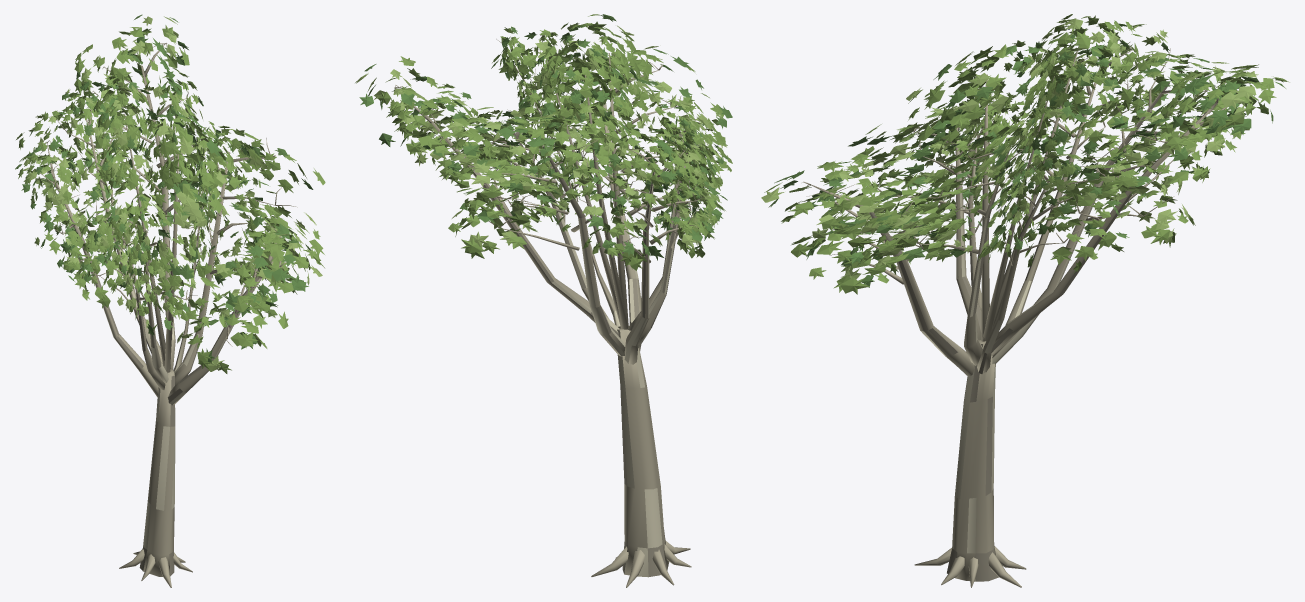
3 views of the same model, side by side, from view 1: azimuth 30°, elevation 25°; view 2: azimuth 150°, elevation 25°; view 3: azimuth 270°, elevation 25° (orthographic). The views are drawn at different scales.
Parts seen in each view (by area): view 1: tree_plane_a_PlaneLeaf, tree_plane_a_PlaneBark, tree_plane_a_PlaneLeafDark, tree_plane_a_PlaneLeafLight, tree_plane_a_PlaneBarkPale, tree_plane_a_PlaneBarkBrown; view 2: tree_plane_a_PlaneLeaf, tree_plane_a_PlaneBark, tree_plane_a_PlaneLeafLight, tree_plane_a_PlaneLeafDark, tree_plane_a_PlaneBarkPale, tree_plane_a_PlaneBarkBrown; view 3: tree_plane_a_PlaneLeaf, tree_plane_a_PlaneBark, tree_plane_a_PlaneLeafLight, tree_plane_a_PlaneLeafDark, tree_plane_a_PlaneBarkPale, tree_plane_a_PlaneBarkBrown.
Part boxes in pixels (bbox=[...]): tree_plane_a_PlaneLeaf: bbox=[16, 25, 325, 373]; tree_plane_a_PlaneBark: bbox=[40, 43, 297, 587]; tree_plane_a_PlaneLeafDark: bbox=[15, 14, 313, 362]; tree_plane_a_PlaneLeafLight: bbox=[23, 16, 322, 371]; tree_plane_a_PlaneBarkPale: bbox=[82, 66, 273, 549]; tree_plane_a_PlaneBarkBrown: bbox=[51, 66, 202, 575]; tree_plane_a_PlaneLeaf: bbox=[377, 14, 732, 270]; tree_plane_a_PlaneBark: bbox=[394, 39, 708, 587]; tree_plane_a_PlaneLeafLight: bbox=[355, 23, 726, 253]; tree_plane_a_PlaneLeafDark: bbox=[359, 14, 732, 260]; tree_plane_a_PlaneBarkPale: bbox=[425, 79, 681, 577]; tree_plane_a_PlaneBarkBrown: bbox=[485, 79, 678, 576]; tree_plane_a_PlaneLeaf: bbox=[764, 14, 1289, 294]; tree_plane_a_PlaneBark: bbox=[802, 45, 1225, 587]; tree_plane_a_PlaneLeafLight: bbox=[761, 18, 1258, 279]; tree_plane_a_PlaneLeafDark: bbox=[768, 23, 1285, 287]; tree_plane_a_PlaneBarkPale: bbox=[869, 84, 1169, 553]; tree_plane_a_PlaneBarkBrown: bbox=[872, 83, 1207, 581].
Bounding box in the file's own units: 7.83 × 14.54 × 12.32.
